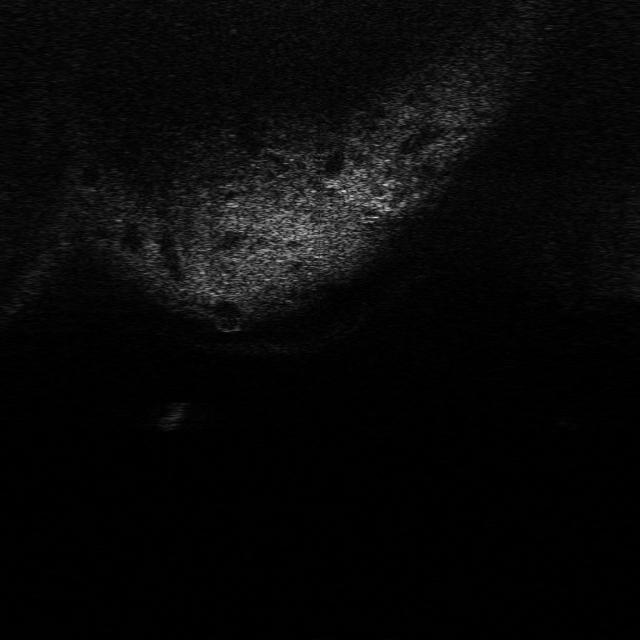cylinder: (156, 400, 188, 430)
